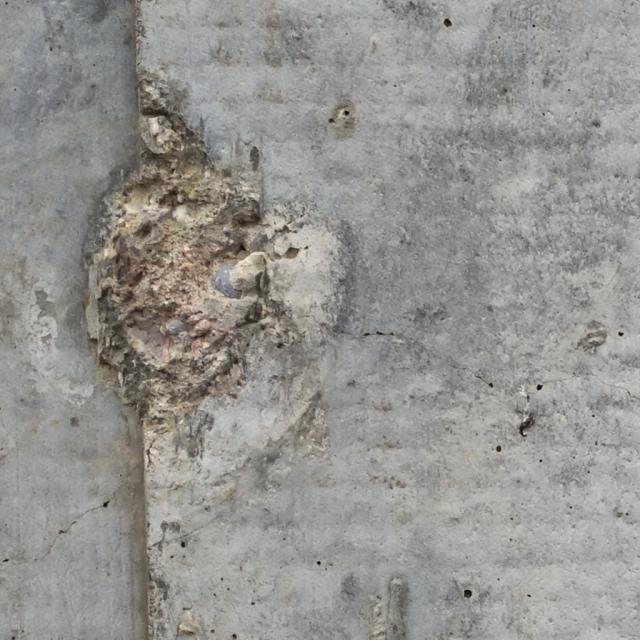D10: (94, 70, 317, 461)
